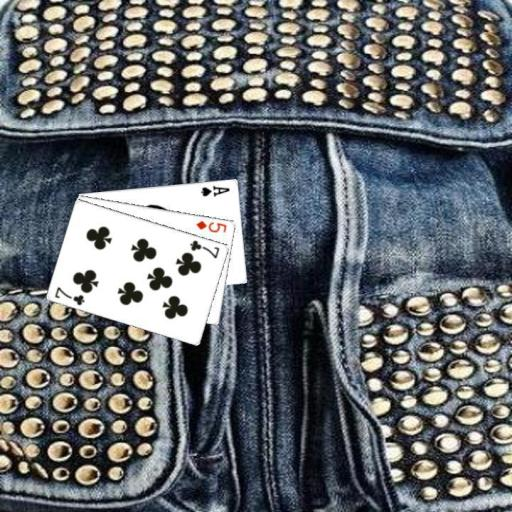5D: (194, 217, 229, 234)
7C: (187, 237, 221, 260), (52, 284, 86, 307)
AS: (198, 182, 231, 198)
